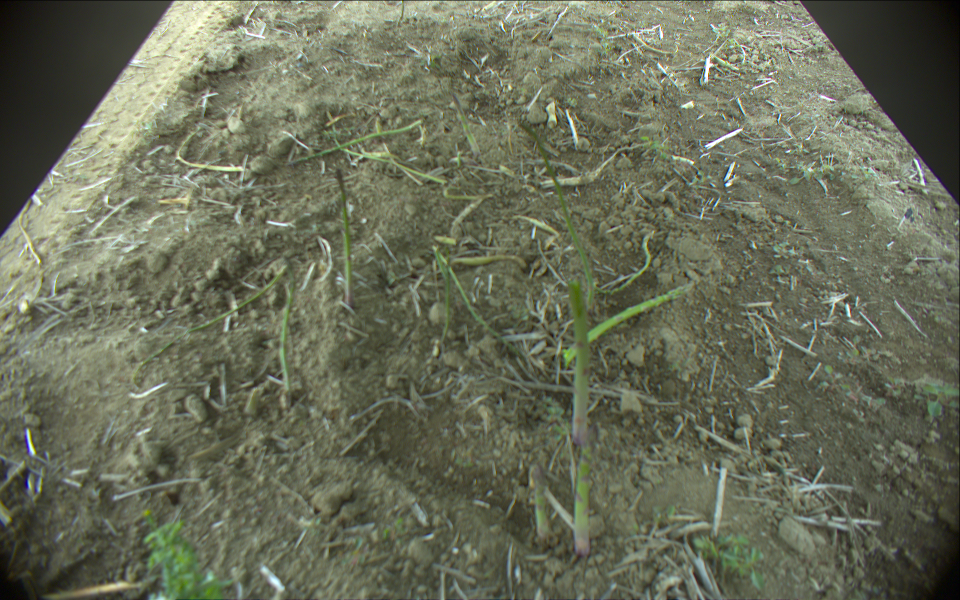aspa: (129, 271, 284, 393), (514, 115, 597, 285), (165, 116, 426, 170), (562, 284, 694, 362), (433, 245, 523, 348), (327, 121, 444, 185), (565, 279, 591, 440), (570, 432, 600, 561), (331, 169, 357, 291), (279, 276, 298, 405), (447, 92, 483, 155), (439, 259, 455, 350), (530, 465, 548, 539)
